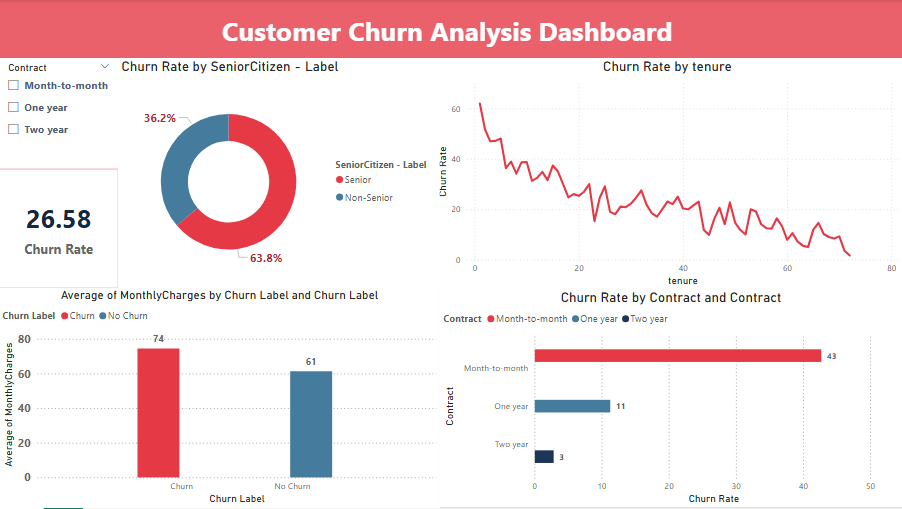

What the dashboard file says about the page in this screenshot:
{"tool":"powerbi","page":{"name":"Page 1","canvas":[1280,720],"ordinal":0},"visuals":[{"type":"cardVisual","fields":{"Data":["customers.Churn Rate"]},"box":[0,239.8,169.1,169.1],"z":0},{"type":"clusteredBarChart","fields":{"Category":["customers.Contract"],"Y":["customers.Churn Rate"],"Series":["customers.Contract"]},"box":[624.9,409.9,655.1,310.8],"z":1000},{"type":"lineChart","fields":{"Y":["customers.Churn Rate"],"Category":["customers.tenure"]},"box":[624.5,82.8,655.5,327.8],"z":2000},{"type":"clusteredColumnChart","fields":{"Y":["Avg(customers.MonthlyCharges)"],"Category":["customers.Churn"],"Series":["customers.Churn"]},"box":[0,408.2,624.9,312.4],"z":3000},{"type":"donutChart","fields":{"Category":["customers.SeniorCitizen"],"Y":["customers.Churn Rate"]},"box":[169.1,82.8,455.4,327.8],"z":4000},{"type":"textbox","box":[224.3,12.1,822.9,58.7],"z":5000},{"type":"slicer","fields":{"Values":["customers.Contract"]},"box":[0,82.8,169.1,157],"z":6000}]}

Visuals, with their boxes in screenshot pixels (x1, y1, x2, y2), scaled from the page's 1280x720 canvas onto the 902x509 screenshot:
cardVisual - customers.Churn Rate: [0,170,119,289]
clusteredBarChart - customers.Contract x customers.Churn Rate: [440,290,901,508]
lineChart - customers.Churn Rate x customers.tenure: [440,59,901,290]
clusteredColumnChart - Avg(customers.MonthlyCharges) x customers.Churn: [0,289,440,508]
donutChart - customers.SeniorCitizen x customers.Churn Rate: [119,59,440,290]
textbox: [158,9,738,50]
slicer - customers.Contract: [0,59,119,170]
